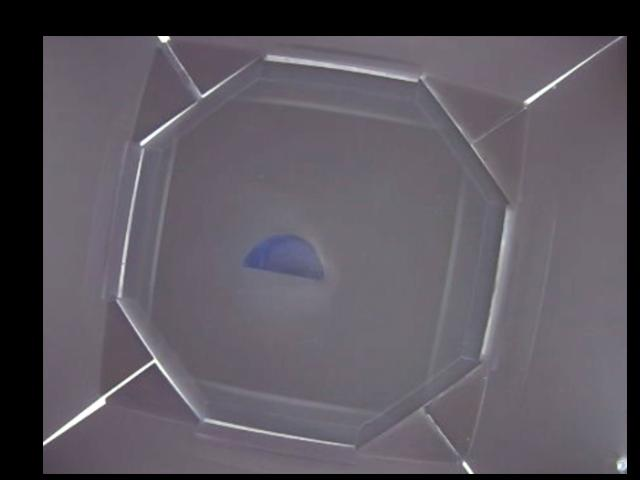Mooli: (241, 234, 325, 279)
